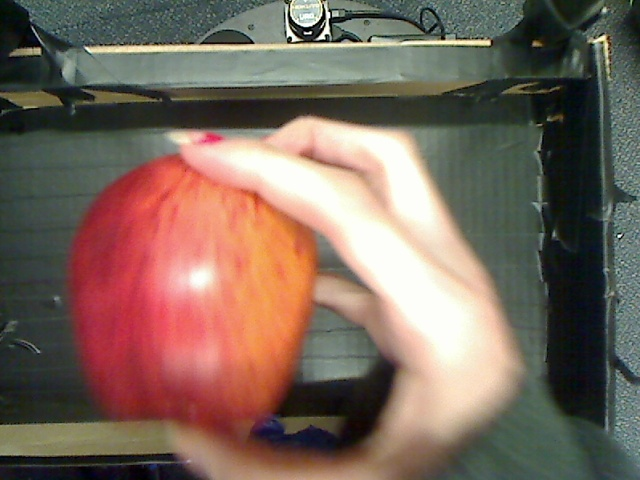apple: (61, 141, 342, 447)
